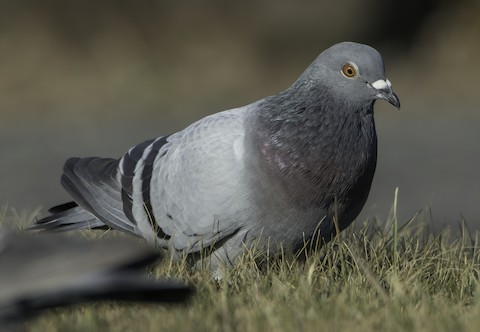pigeon: (24, 40, 404, 315)
